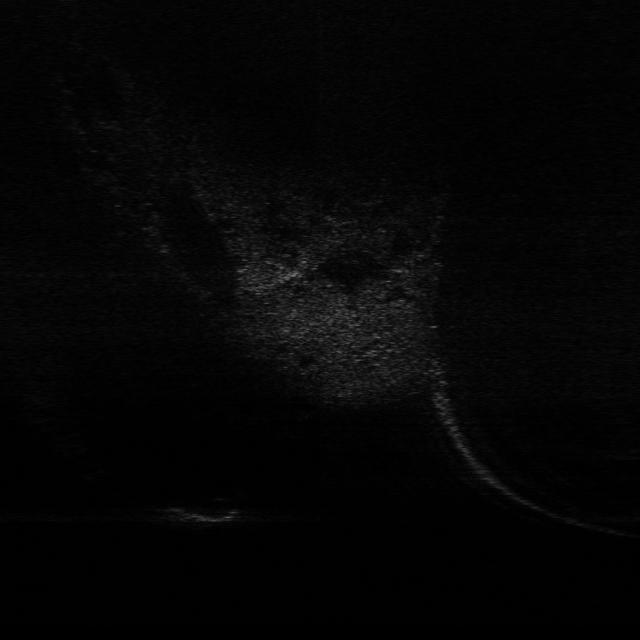cube: (152, 500, 254, 536)
